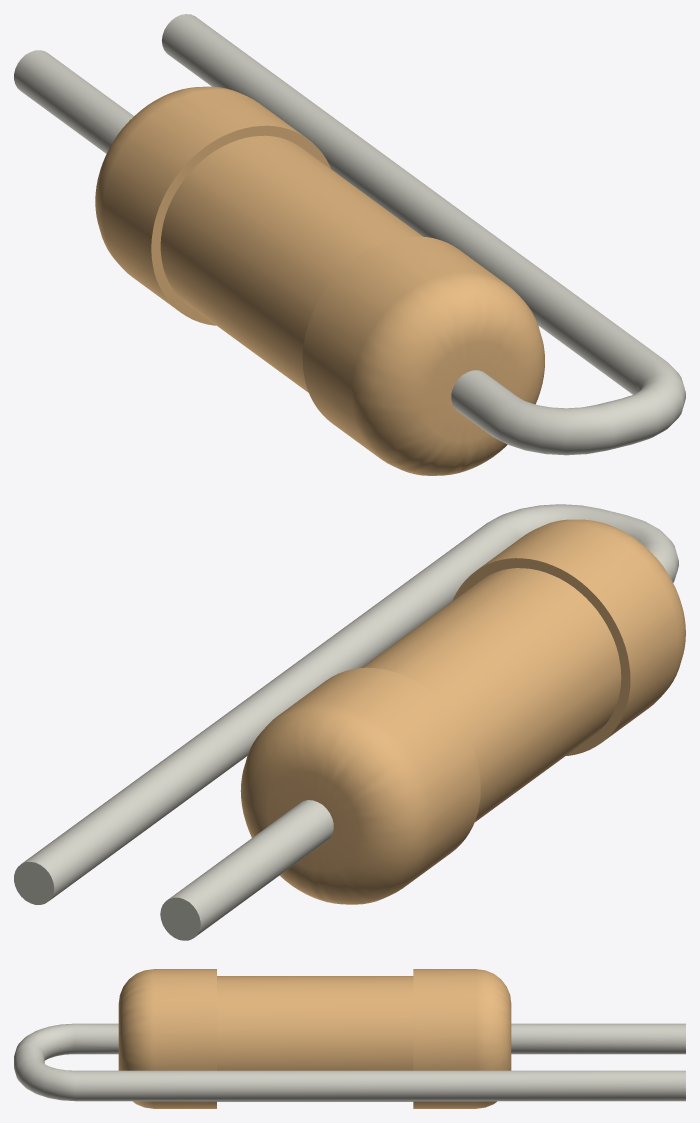
File: r-axial-din0309-l9.0-d3.2-p2.54-v.glb
3 views of the same model, one above another, from view 1: azimuth 30°, elevation 25°; view 2: azimuth 150°, elevation 25°; view 3: azimuth 270°, elevation 25° (orthographic). The views are drawn at different scales.
Parts seen in each view (by area): view 1: RES-THT-01, PIN-01; view 2: RES-THT-01, PIN-01; view 3: RES-THT-01, PIN-01.
Boxes of the visible parts, x1,y1,x2,y2 form: RES-THT-01: (95, 86, 544, 475); PIN-01: (14, 14, 685, 455); RES-THT-01: (240, 519, 685, 904); PIN-01: (14, 504, 678, 940); RES-THT-01: (118, 969, 511, 1108); PIN-01: (14, 1023, 685, 1101).
Size of the model in its own units: 4.49 by 3.2 by 15.4.
